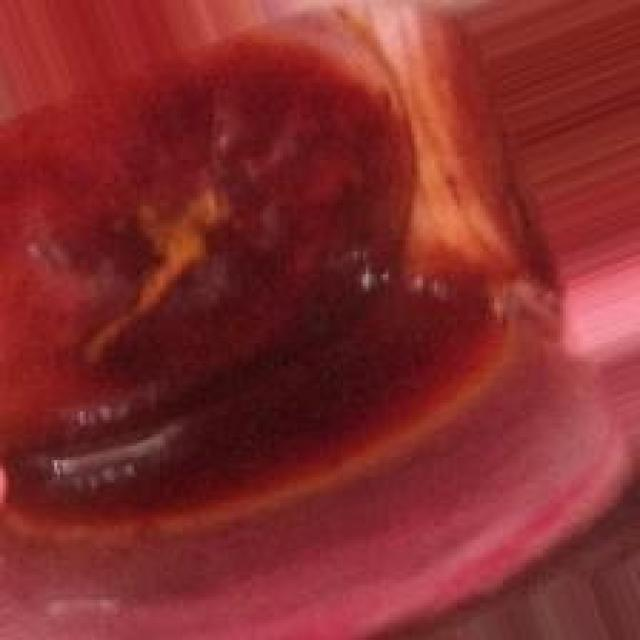type-3: (17, 0, 626, 635)
